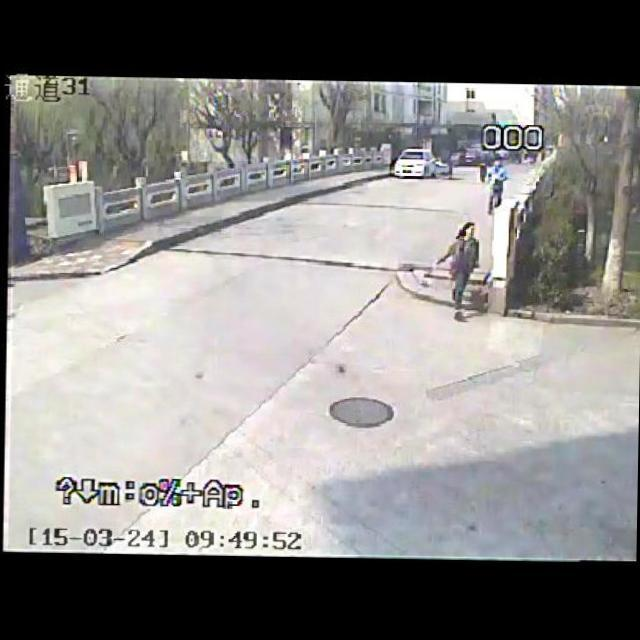person: (430, 222, 488, 322), (476, 156, 515, 208)
